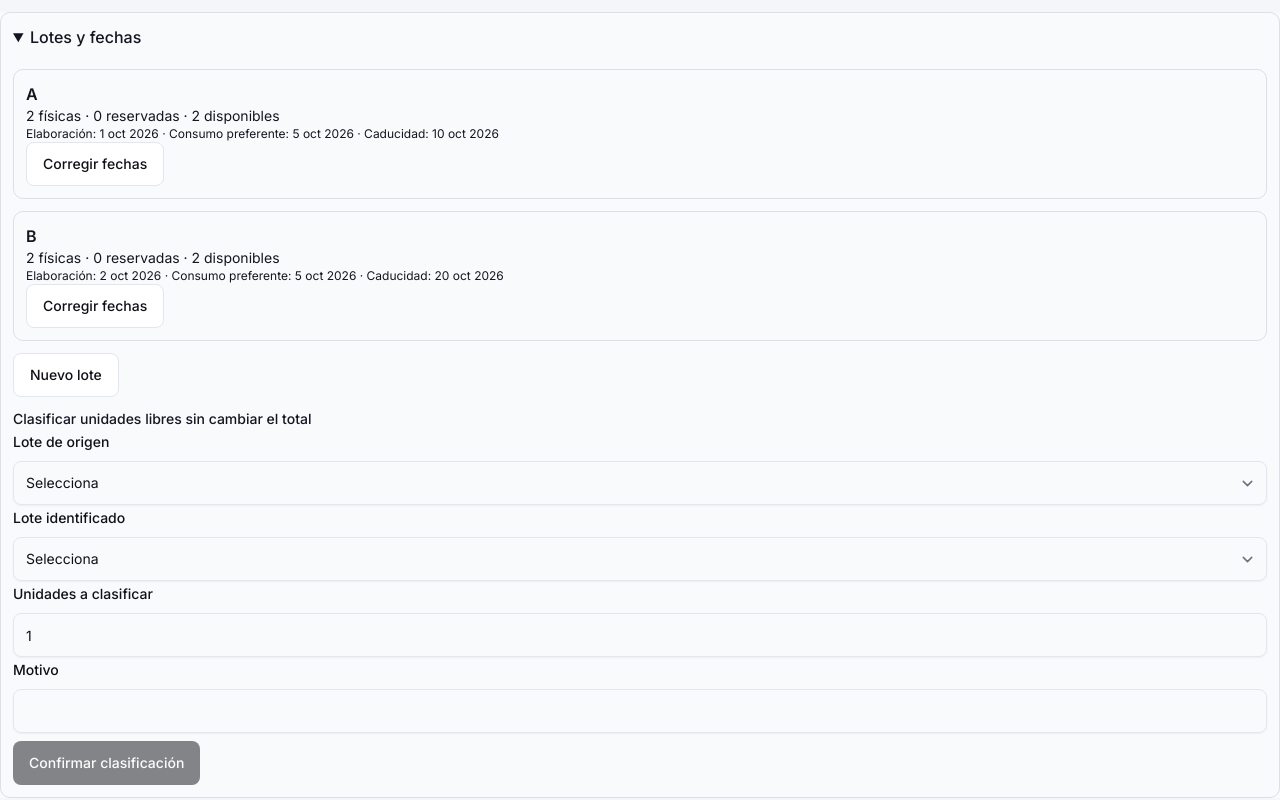
Test case: lot date editing › loads the selected lot's own values when switching the correction form
Click the button "Corregir fechas" below "1 oct 2026" at [95, 164], box [26,142,164,186]
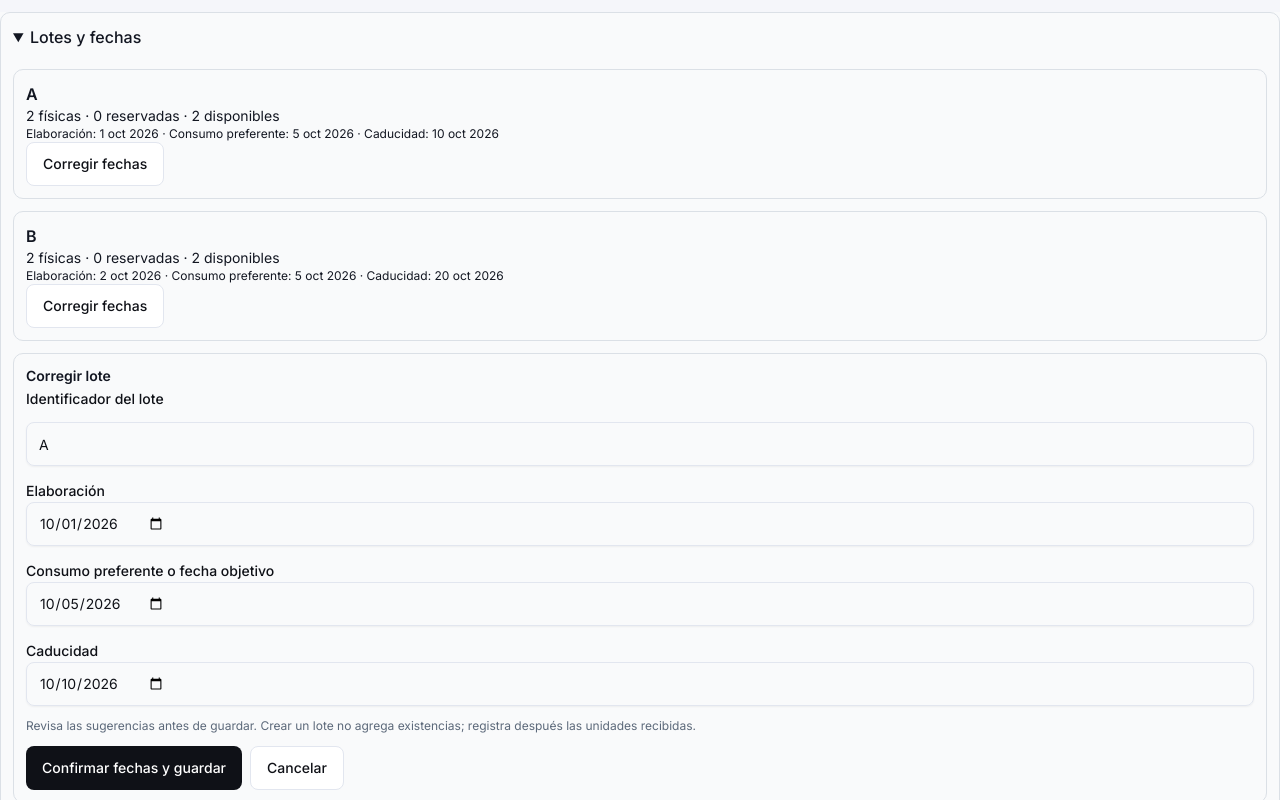
Replace the text in the field labelled "Identificador del lote" with "A corregido" at [640, 444], box [26,422,1254,466]
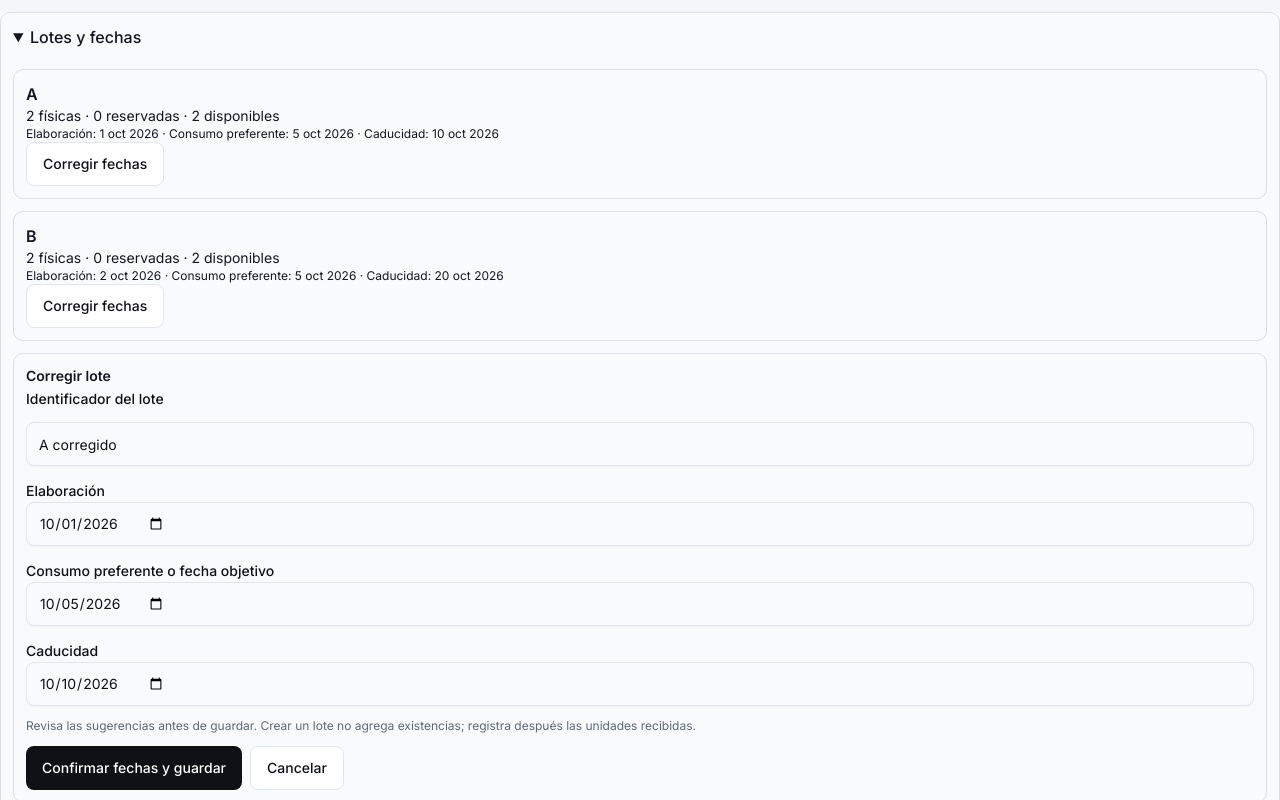
Click the button "Corregir fechas" below "2 oct 2026" at [95, 306], box [26,284,164,328]
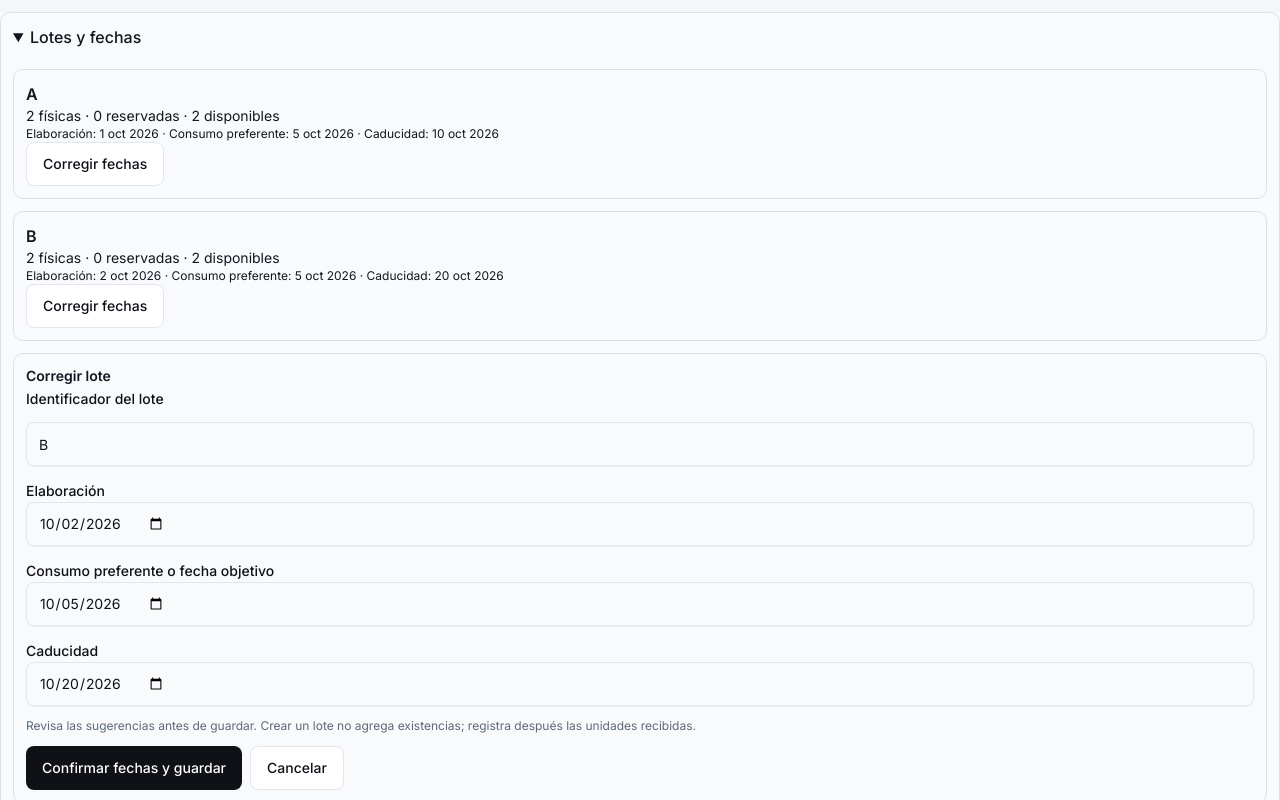
Expected: the field labelled "Identificador del lote" holds "B", [26,422,1254,466]
Expected: the date field labelled "Caducidad" holds "2026-10-20", [26,662,1254,706]
Click the button "Confirmar fechas y guardar" at [134, 768], box [26,746,242,790]
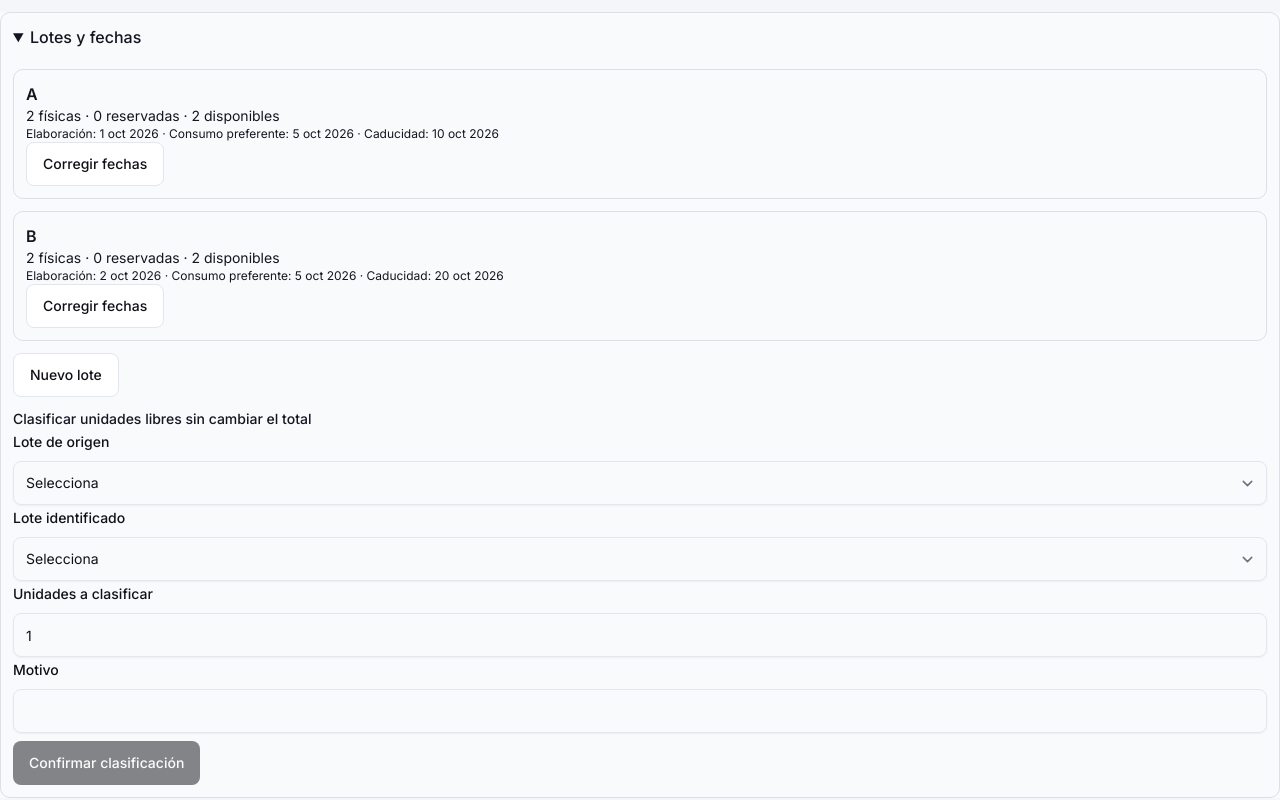
Expected: the label labelled "Identificador del lote" is gone
